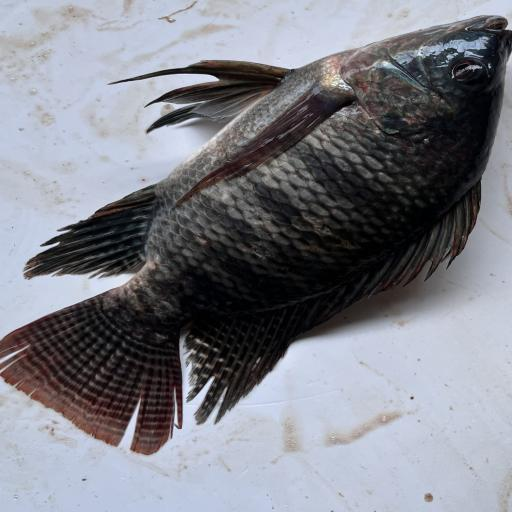Tilapia: (0, 15, 512, 456)
